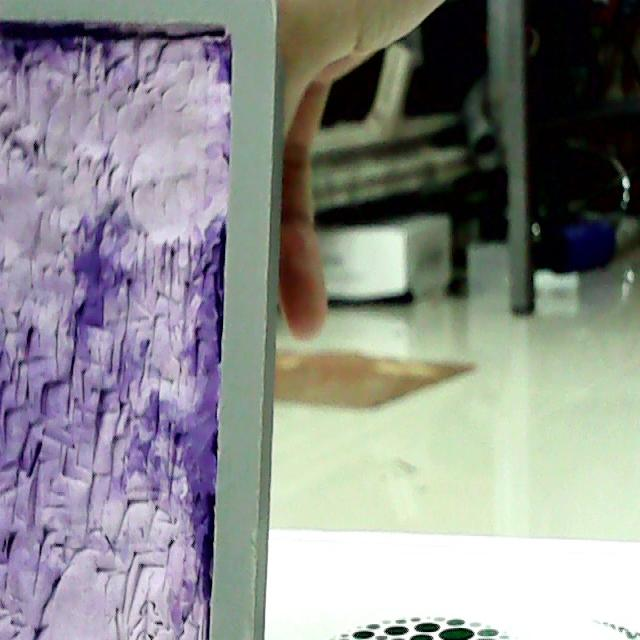block: (0, 0, 285, 640)
